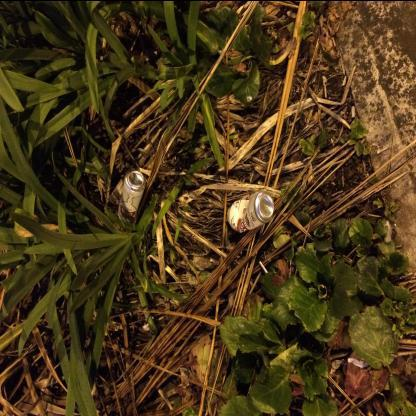metal: (228, 190, 275, 233), (119, 170, 147, 225)
